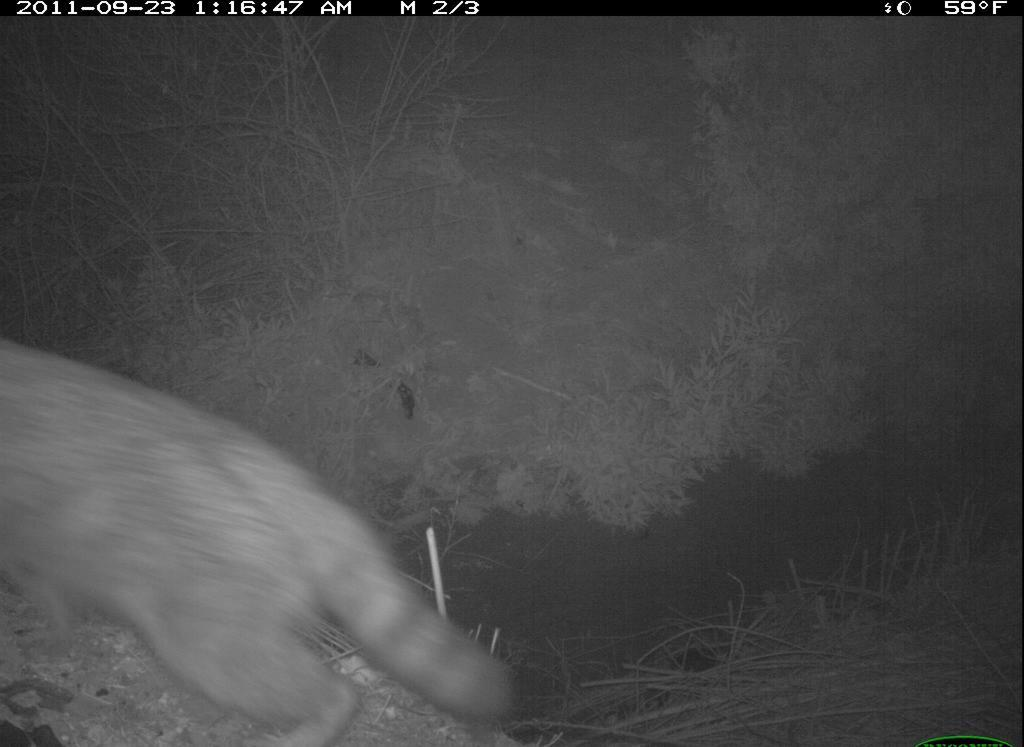raccoon: (8, 327, 548, 747)
